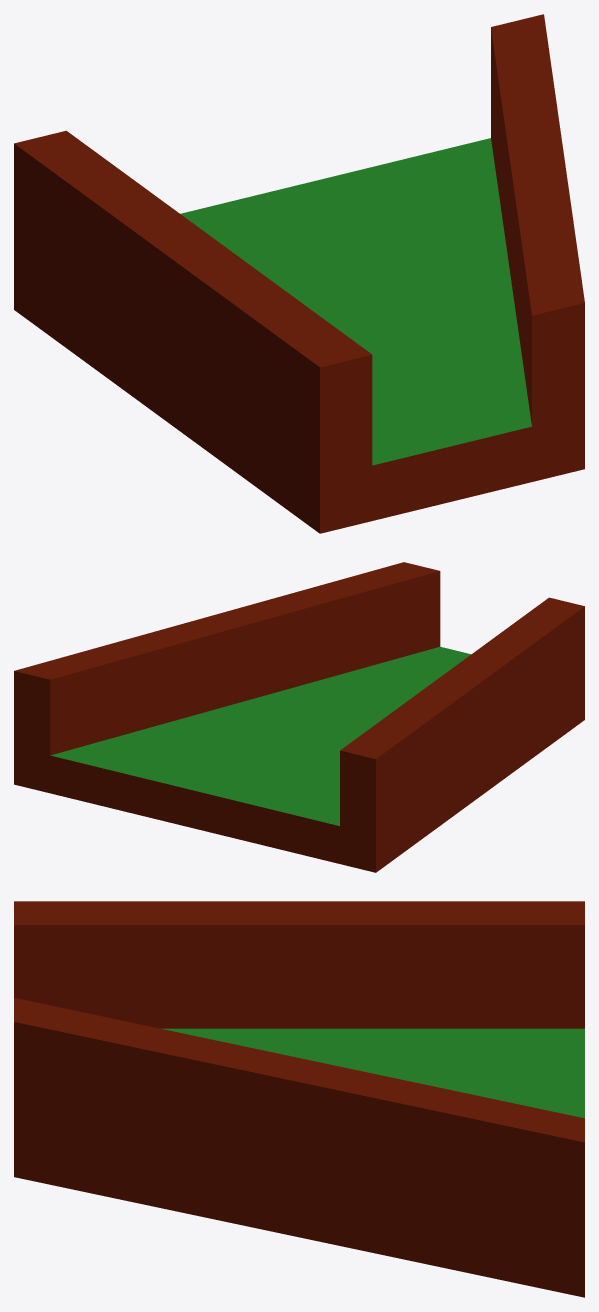
Rendered from StraightRight.obj.
3 views of the same model, one above another, from view 1: azimuth 30°, elevation 25°; view 2: azimuth 150°, elevation 25°; view 3: azimuth 270°, elevation 25° (orthographic). The views are drawn at different scales.
Visible parts, largest first — view 1: StraightRight; view 2: StraightRight; view 3: StraightRight.
Part boxes in pixels (box(x1,y1,x2,y2)): StraightRight: box(14, 14, 584, 533); StraightRight: box(14, 562, 584, 872); StraightRight: box(14, 901, 584, 1297).
Bounding box in the file's own units: 2 × 0.6 × 2.
